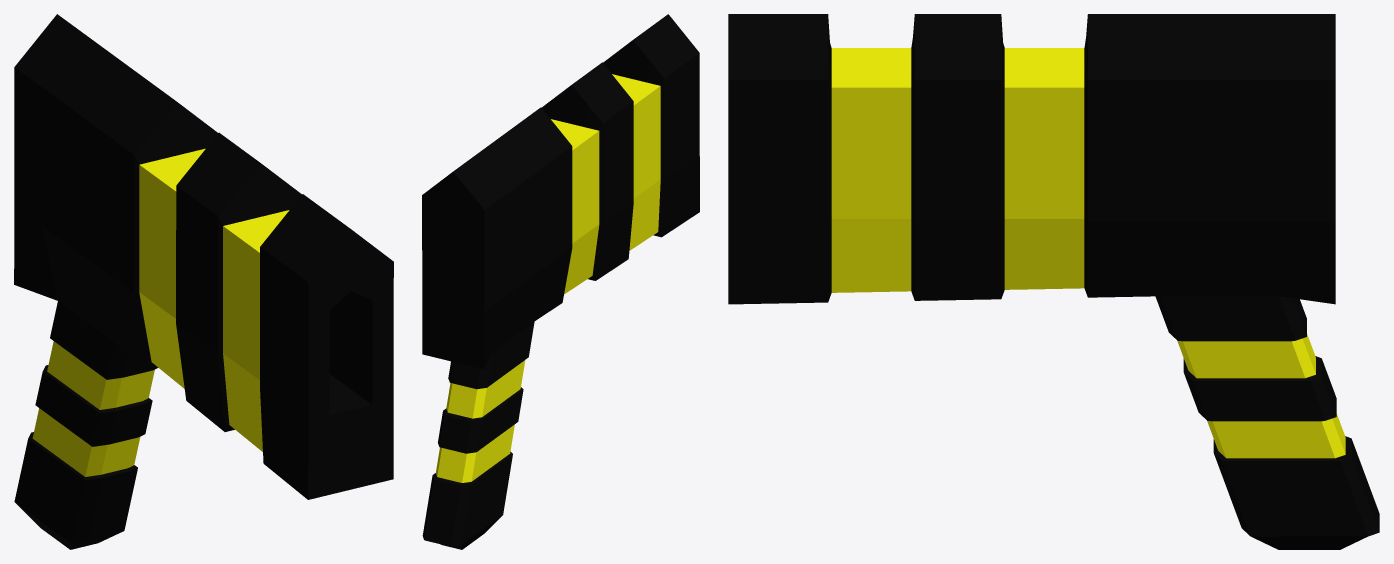
The model's file is Gun to Unity2.fbx.
The picture shows the model from 3 angles, left to right: view 1: azimuth 30°, elevation 25°; view 2: azimuth 150°, elevation 25°; view 3: azimuth 270°, elevation 25°; orthographic projection. The views are drawn at different scales.
Parts seen in each view (by area): view 1: Gun; view 2: Gun; view 3: Gun.
Boxes of the visible parts, bbox=[...] form: Gun: bbox=[14, 14, 393, 549]; Gun: bbox=[422, 14, 699, 549]; Gun: bbox=[728, 14, 1379, 549].
Bounding box in the file's own units: 4.66 × 26.61 × 29.69.
